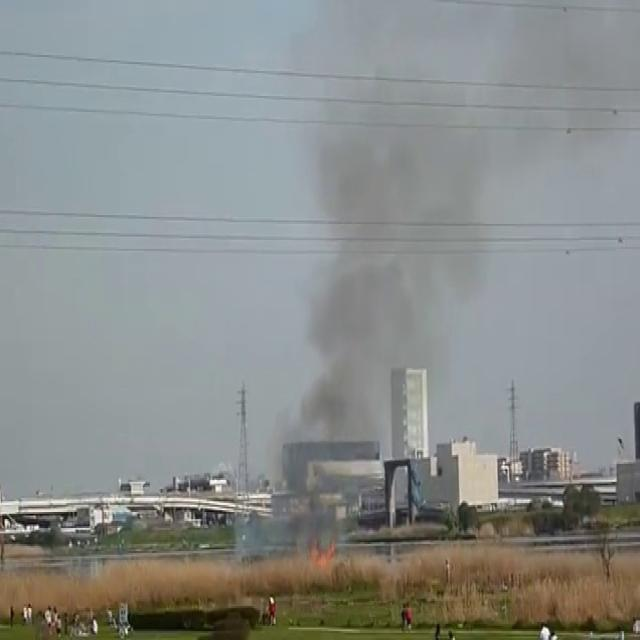Smoke: (248, 0, 634, 580)
